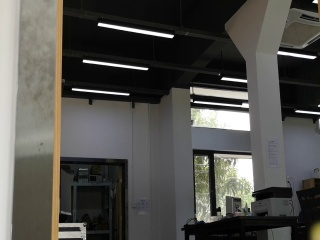room: (15, 1, 320, 237)
